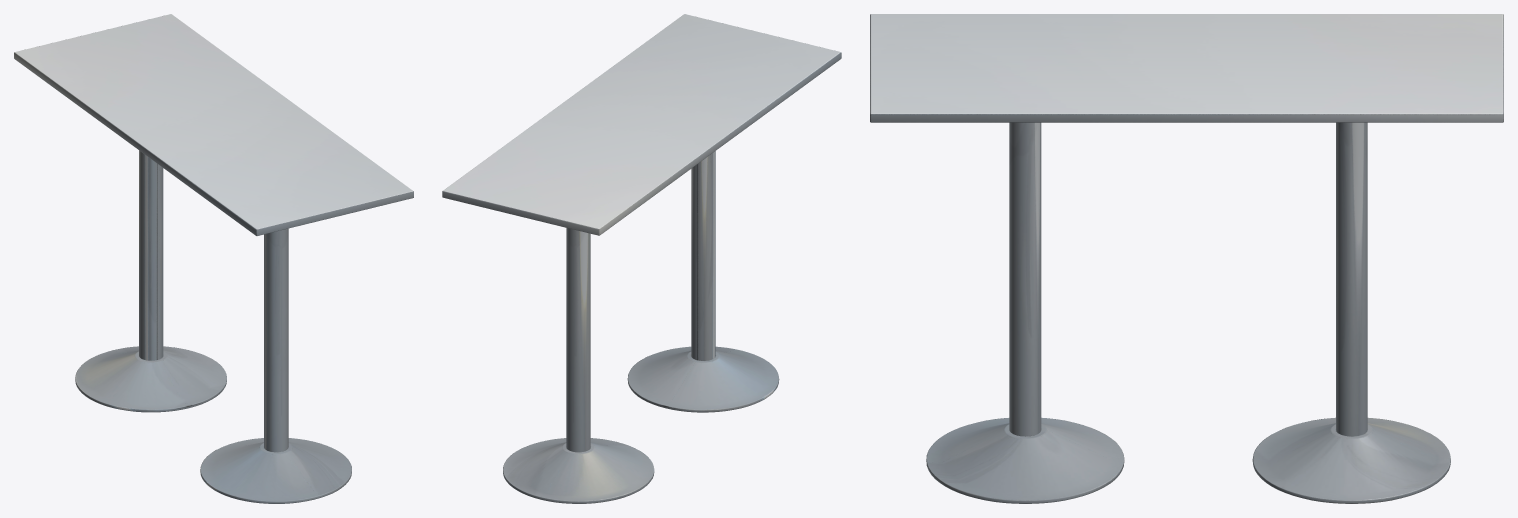
The model's file is fermo_110_lang_160x60_white_laquered_metal.glb.
3 renders of one model, left to right at view 1: azimuth 30°, elevation 25°; view 2: azimuth 150°, elevation 25°; view 3: azimuth 270°, elevation 25°, orthographic. The views are drawn at different scales.
Visible parts, largest first — view 1: fermo_110_lang-white; view 2: fermo_110_lang-white; view 3: fermo_110_lang-white.
Part boxes in pixels (box(x1,y1,x2,y2)): fermo_110_lang-white: box(14, 14, 413, 503); fermo_110_lang-white: box(442, 14, 841, 503); fermo_110_lang-white: box(870, 14, 1503, 503).
Size of the model in its own units: 0.6003 by 1.11 by 1.6.
Materials: 1 (1 with a texture image).
